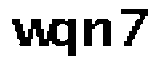7: (118, 5, 152, 50)
n: (81, 16, 113, 52)
q: (49, 16, 81, 60)
w: (9, 14, 55, 50)
